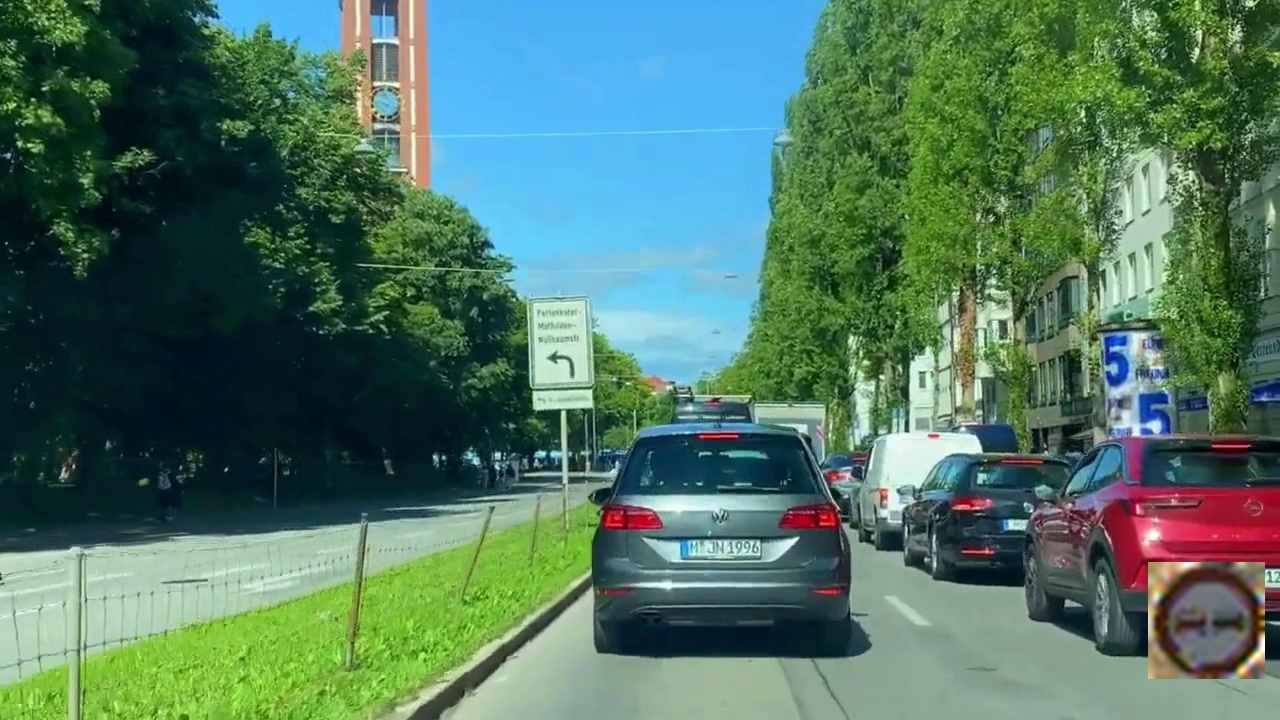No passing: (1148, 562, 1265, 679)
